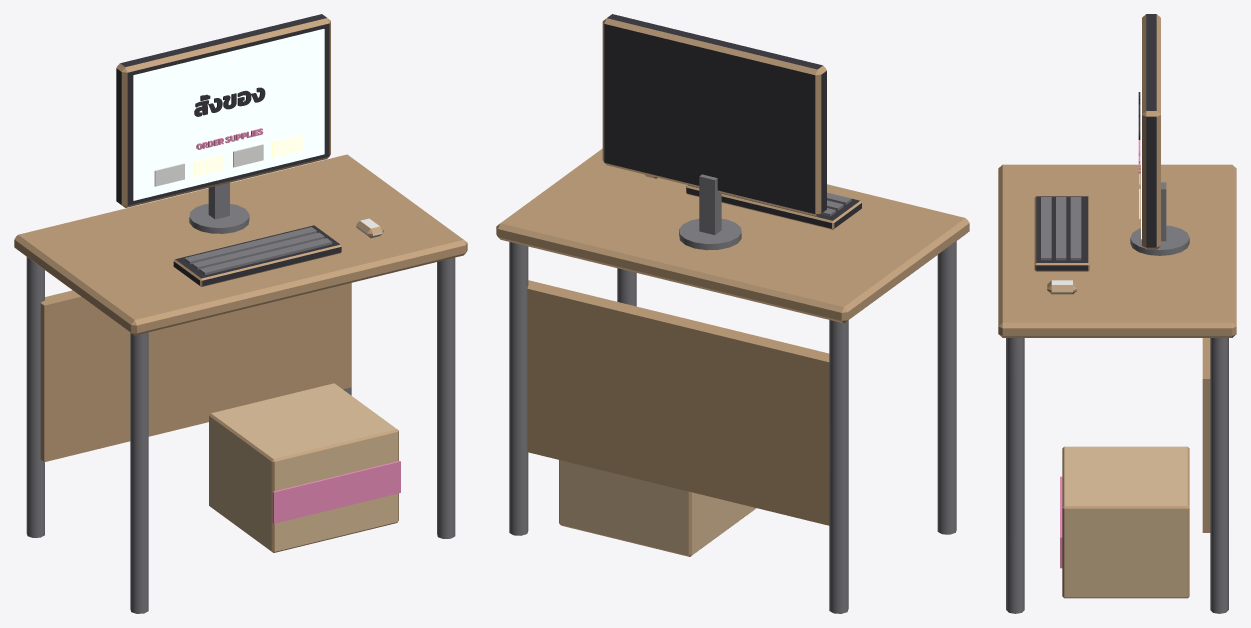
File: SM_OrderComputer.fbx
3 renders of one model, left to right at view 1: azimuth 30°, elevation 25°; view 2: azimuth 150°, elevation 25°; view 3: azimuth 270°, elevation 25°, orthographic. The views are drawn at different scales.
Visible parts, largest first — view 1: SM_OrderComputer; view 2: SM_OrderComputer; view 3: SM_OrderComputer.
Part boxes in pixels (left/top/right/bottom): SM_OrderComputer: left=14, top=14, right=467, bottom=613; SM_OrderComputer: left=496, top=14, right=969, bottom=613; SM_OrderComputer: left=998, top=14, right=1236, bottom=613.
Bounding box in the file's own units: 0.9 × 1.23 × 0.56.
